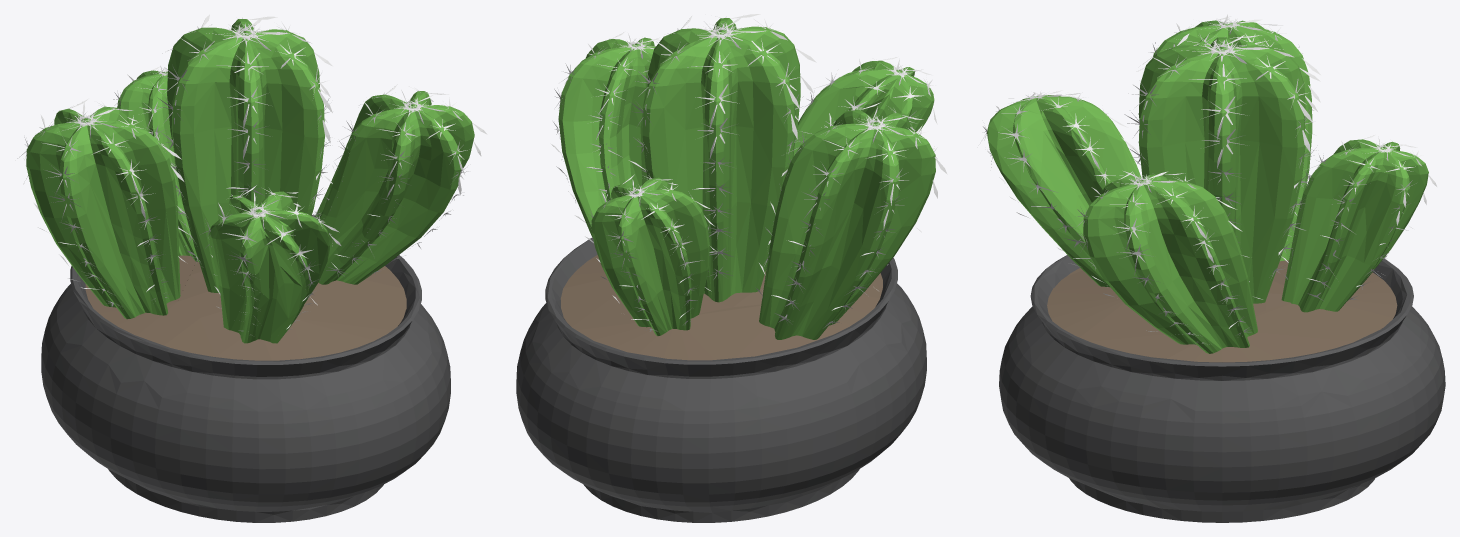
Rendered from sh-bs0-cactus.glb.
3 views of the same model, side by side, from view 1: azimuth 30°, elevation 25°; view 2: azimuth 150°, elevation 25°; view 3: azimuth 270°, elevation 25° (orthographic). The views are drawn at different scales.
Parts seen in each view (by area): view 1: Circle.014_Circle.009, Circle.016_Circle.031, forest-floor-458775_1280, Circle.003; view 2: Circle.014_Circle.009, Circle.016_Circle.031, forest-floor-458775_1280, Circle.003; view 3: Circle.014_Circle.009, Circle.016_Circle.031, forest-floor-458775_1280, Circle.003.
Part boxes in pixels (left/top/right/bottom): Circle.014_Circle.009: left=26, top=19, right=474, bottom=343; Circle.016_Circle.031: left=41, top=215, right=450, bottom=522; forest-floor-458775_1280: left=85, top=255, right=406, bottom=360; Circle.003: left=17, top=14, right=487, bottom=335; Circle.014_Circle.009: left=558, top=18, right=935, bottom=339; Circle.016_Circle.031: left=516, top=237, right=926, bottom=522; forest-floor-458775_1280: left=560, top=255, right=882, bottom=360; Circle.003: left=550, top=14, right=947, bottom=331; Circle.014_Circle.009: left=987, top=20, right=1428, bottom=353; Circle.016_Circle.031: left=999, top=255, right=1445, bottom=522; forest-floor-458775_1280: left=1047, top=260, right=1397, bottom=362; Circle.003: left=983, top=14, right=1436, bottom=346.
Size of the model in its own units: 0.9617 by 0.9824 by 0.9916.
